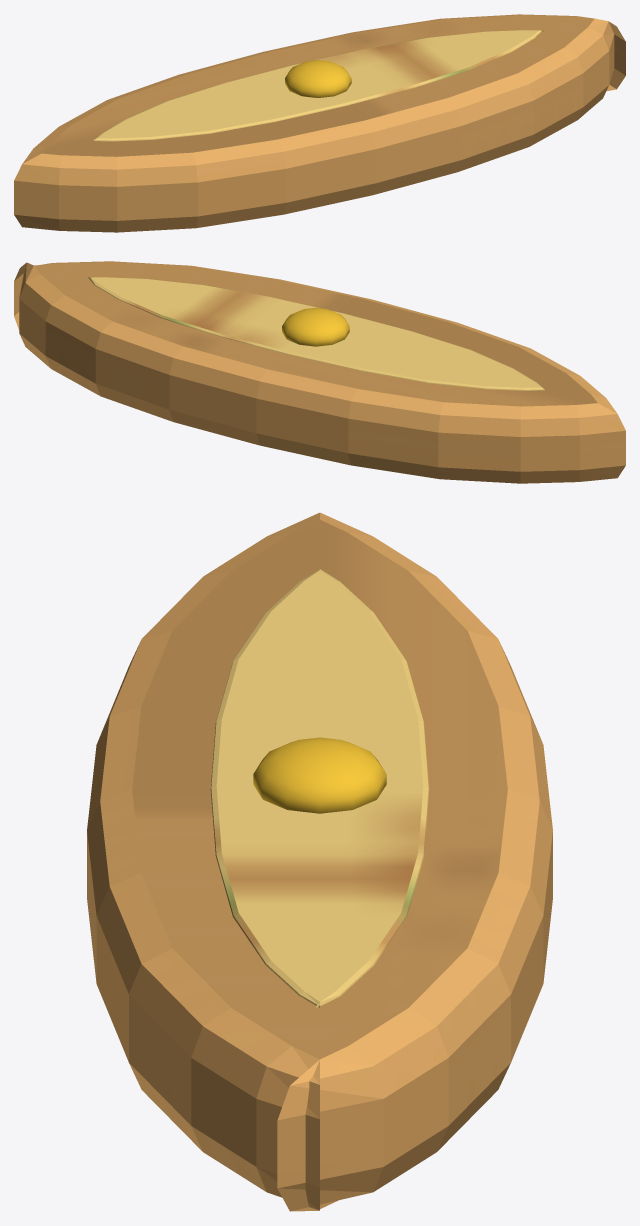
Rendered from pide.glb.
The picture shows the model from 3 angles, top to bottom: view 1: azimuth 30°, elevation 25°; view 2: azimuth 150°, elevation 25°; view 3: azimuth 270°, elevation 25°; orthographic projection. The views are drawn at different scales.
Parts seen in each view (by area): view 1: pide; view 2: pide; view 3: pide.
Boxes of the visible parts, bbox=[...] form: pide: bbox=[14, 14, 625, 232]; pide: bbox=[14, 261, 625, 483]; pide: bbox=[87, 512, 552, 1211].
Size of the model in its own units: 0.3696 by 0.056 by 0.124.
3 materials, 2 textured.
